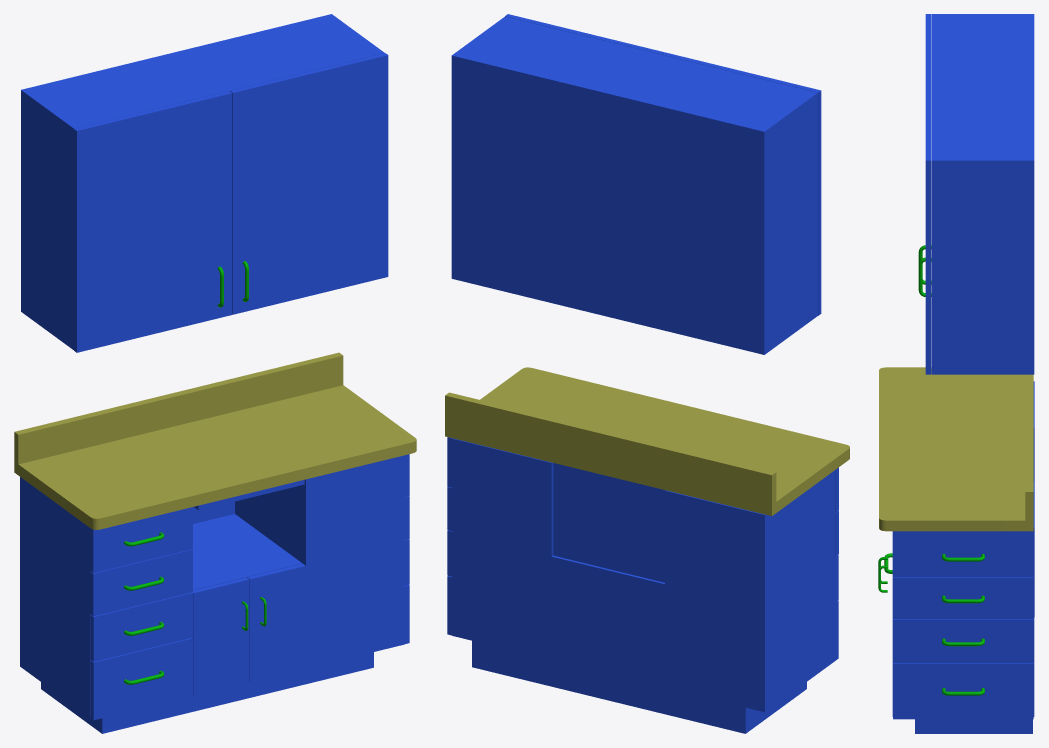
The model's file is Cabinet 6.FBX.
3 renders of one model, left to right at view 1: azimuth 30°, elevation 25°; view 2: azimuth 150°, elevation 25°; view 3: azimuth 270°, elevation 25°, orthographic. The views are drawn at different scales.
Parts seen in each view (by area): view 1: Box087, Box079, Cylinder028; view 2: Box087, Box079; view 3: Box087, Box079, Cylinder028.
Boxes of the visible parts, bbox=[...] form: Box087: bbox=[20, 14, 409, 733]; Box079: bbox=[14, 352, 416, 529]; Cylinder028: bbox=[124, 261, 266, 684]; Box087: bbox=[447, 14, 838, 733]; Box079: bbox=[445, 367, 849, 515]; Box087: bbox=[892, 14, 1034, 733]; Box079: bbox=[879, 367, 1033, 531]; Cylinder028: bbox=[878, 245, 984, 695].
Size of the model in its own units: 7.84 by 13.59 by 3.3.
